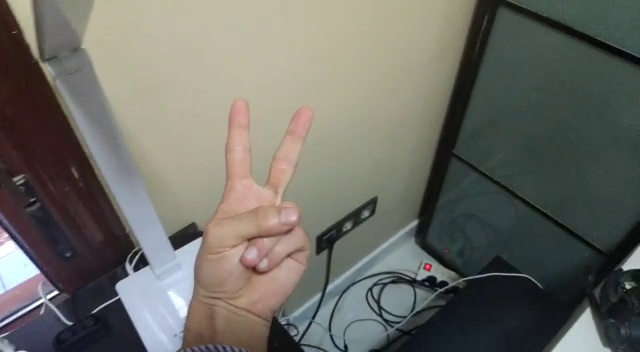Peace: (200, 94, 322, 315)
